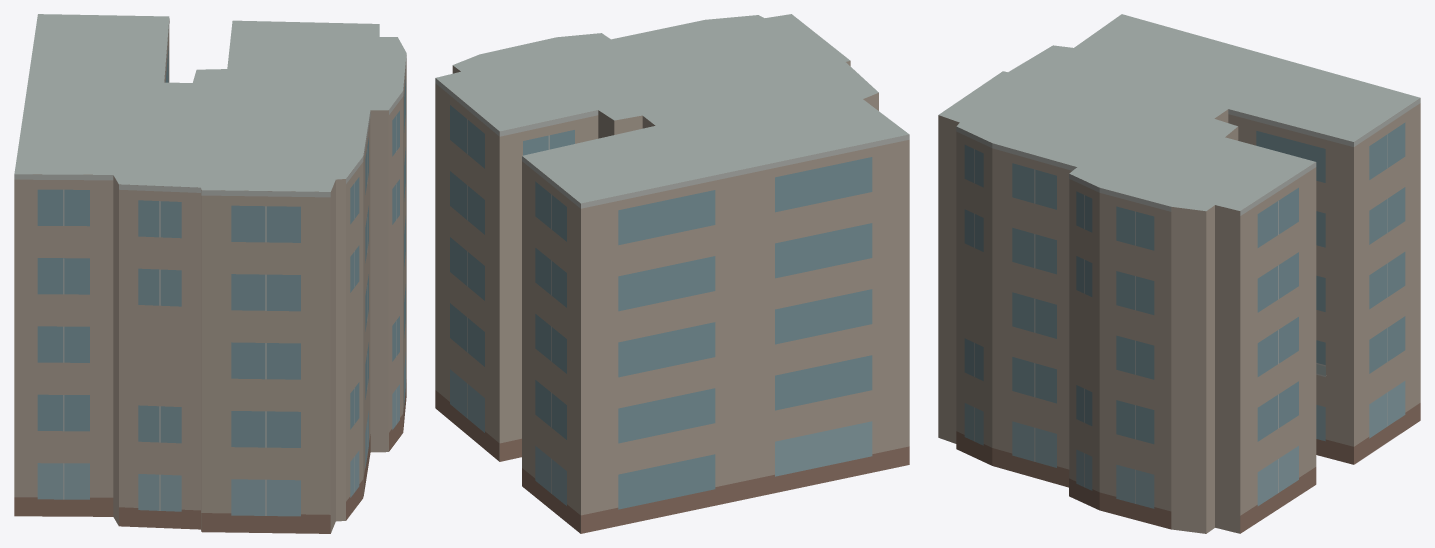
Rendered from survey-upis-32771137.glb.
3 views of the same model, side by side, from view 1: azimuth 30°, elevation 25°; view 2: azimuth 150°, elevation 25°; view 3: azimuth 270°, elevation 25° (orthographic). The views are drawn at different scales.
Parts seen in each view (by area): view 1: survey-upis-32771137.tmp; view 2: survey-upis-32771137.tmp; view 3: survey-upis-32771137.tmp.
Part boxes in pixels (x1,y1,x2,y2): survey-upis-32771137.tmp: [14, 14, 406, 533]; survey-upis-32771137.tmp: [435, 14, 909, 533]; survey-upis-32771137.tmp: [938, 14, 1420, 533].
Size of the model in its own units: 20.19 by 15.4 by 20.87.
